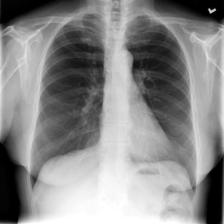normal: (25, 7, 199, 204)
